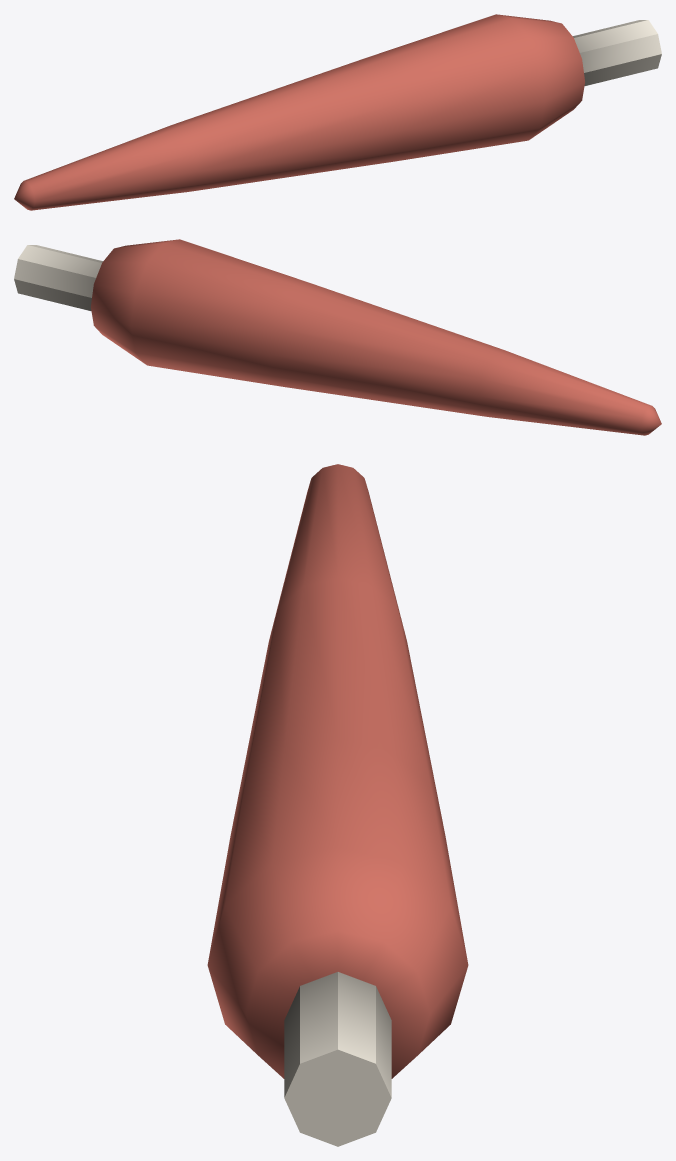
The model's file is forage_root.glb.
3 renders of one model, top to bottom at view 1: azimuth 30°, elevation 25°; view 2: azimuth 150°, elevation 25°; view 3: azimuth 270°, elevation 25°, orthographic. The views are drawn at different scales.
Visible parts, largest first — view 1: PART; view 2: PART; view 3: PART.
Part boxes in pixels (x1,y1,x2,y2): PART: (14, 14, 661, 210); PART: (14, 239, 661, 435); PART: (207, 464, 468, 1146).
Bounding box in the file's own units: 0.191 × 0.034 × 0.034.
